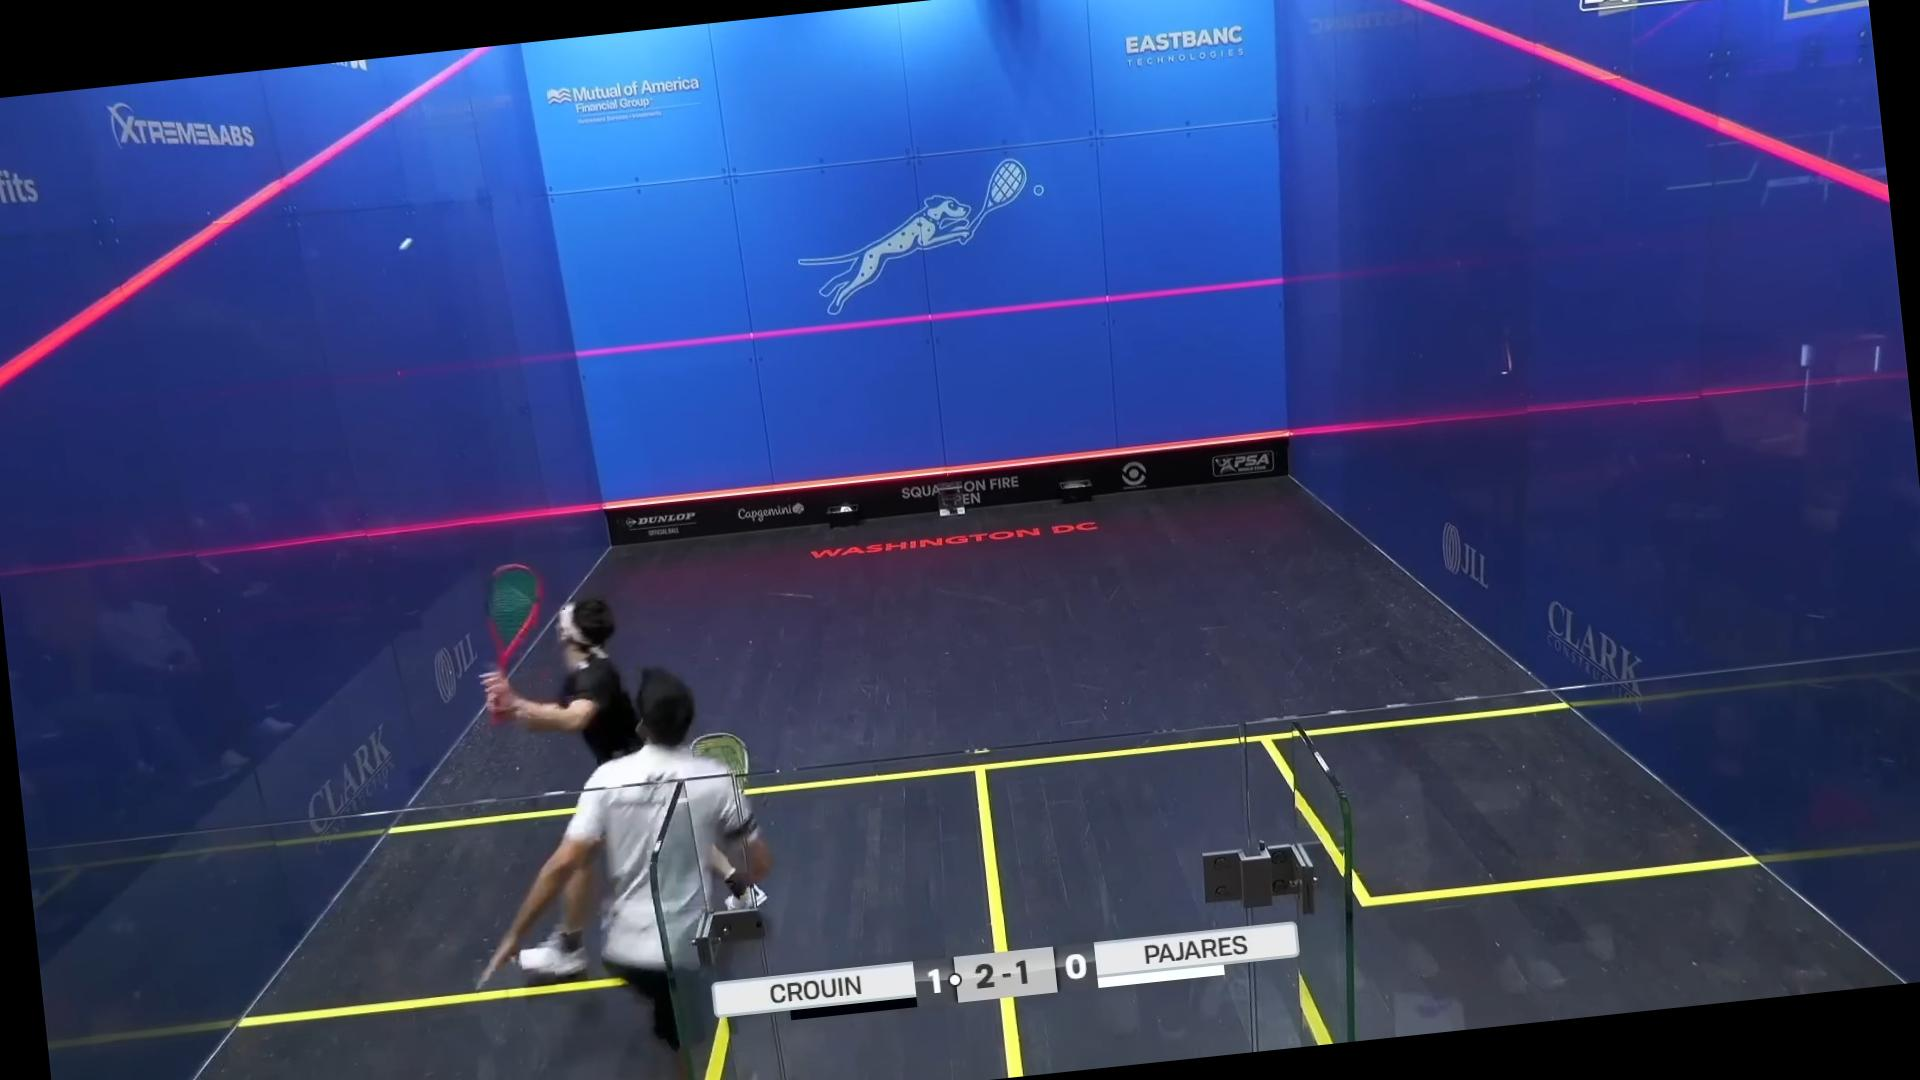Squash-Ball: (381, 223, 430, 269)
